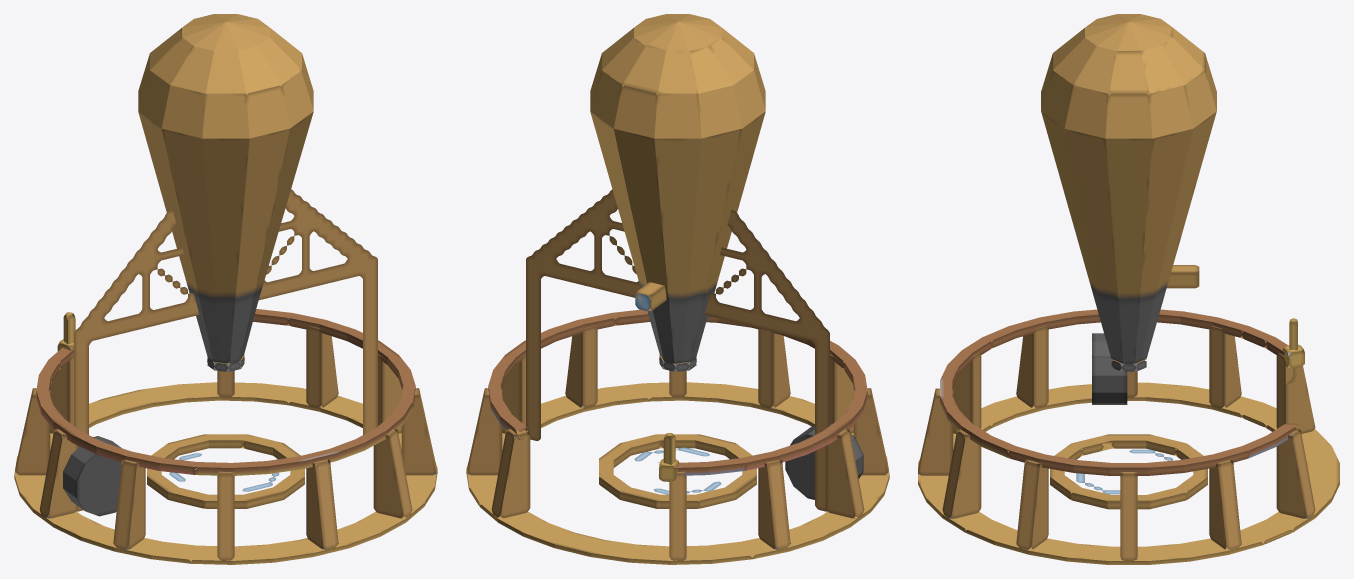
The model's file is fissure_telescope_4.obj.
The picture shows the model from 3 angles, left to right: view 1: azimuth 30°, elevation 25°; view 2: azimuth 150°, elevation 25°; view 3: azimuth 270°, elevation 25°; orthographic projection.
Parts seen in each view (by area): view 1: e, i, k, a, b, c, n, o, t, r, h, p (+5 smaller); view 2: e, i, k, a, b, c, w, u, v, p, t, h (+6 smaller); view 3: e, i, a, b, c, w, o, h, p, r, v, s (+5 smaller).
Part boxes in pixels (bbox=[...]): e: bbox=[138, 85, 313, 363]; i: bbox=[138, 14, 313, 138]; k: bbox=[74, 189, 377, 511]; a: bbox=[14, 382, 437, 564]; b: bbox=[36, 309, 415, 475]; c: bbox=[147, 434, 304, 508]; n: bbox=[63, 436, 121, 516]; o: bbox=[373, 428, 412, 518]; t: bbox=[306, 459, 338, 549]; r: bbox=[113, 459, 145, 549]; h: bbox=[306, 326, 338, 408]; p: bbox=[401, 388, 436, 475]; e: bbox=[590, 85, 765, 363]; i: bbox=[590, 14, 765, 138]; k: bbox=[526, 189, 829, 511]; a: bbox=[466, 382, 889, 564]; b: bbox=[488, 309, 867, 475]; c: bbox=[599, 434, 756, 508]; w: bbox=[491, 428, 530, 518]; u: bbox=[825, 428, 864, 518]; v: bbox=[758, 459, 790, 549]; p: bbox=[565, 326, 597, 408]; t: bbox=[758, 328, 790, 408]; h: bbox=[467, 388, 502, 475]; e: bbox=[1041, 92, 1216, 363]; i: bbox=[1041, 14, 1216, 139]; a: bbox=[918, 382, 1339, 564]; b: bbox=[940, 309, 1301, 475]; c: bbox=[1050, 434, 1207, 509]; w: bbox=[1276, 429, 1315, 518]; o: bbox=[942, 429, 981, 518]; h: bbox=[1209, 459, 1241, 549]; p: bbox=[1016, 459, 1048, 549]; r: bbox=[1016, 326, 1048, 408]; v: bbox=[1209, 326, 1241, 408]; s: bbox=[1276, 353, 1315, 433].
Size of the model in its own units: 3 by 3.56 by 3.
